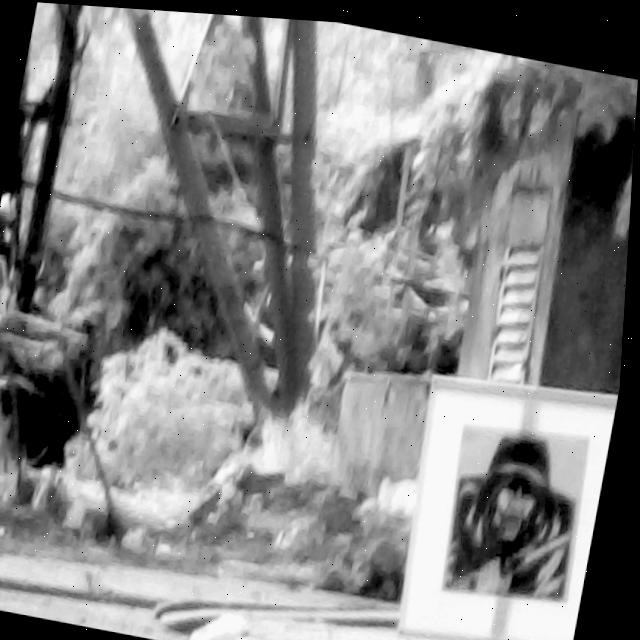bia: (450, 417, 594, 594)
